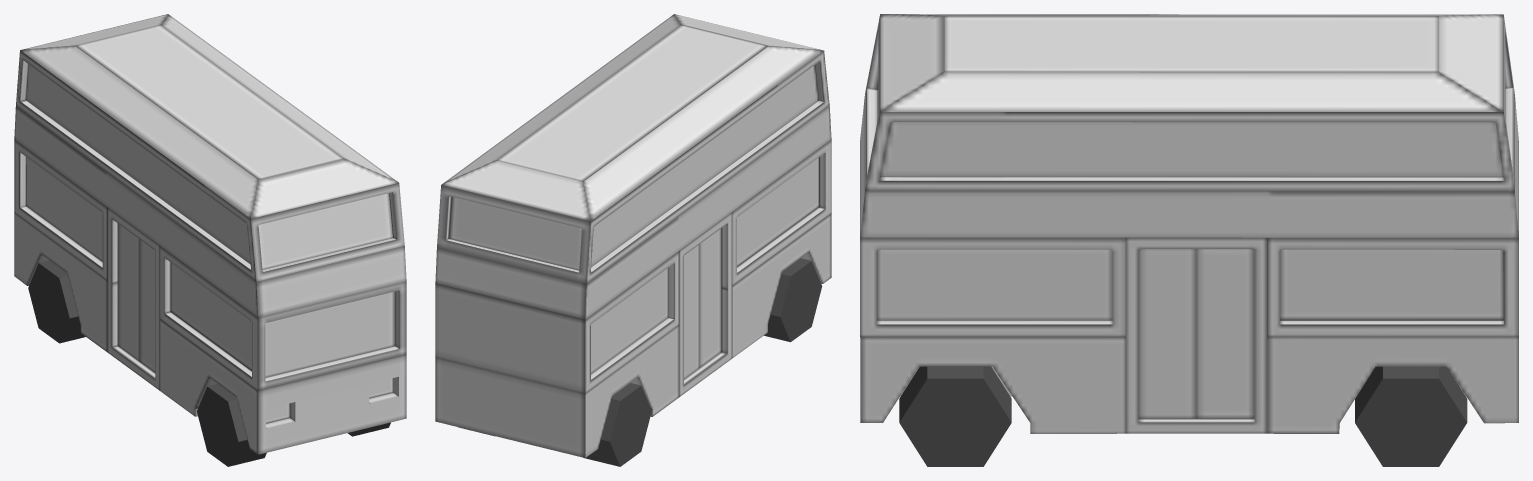
File: Vehicle-04.fbx
3 renders of one model, left to right at view 1: azimuth 30°, elevation 25°; view 2: azimuth 150°, elevation 25°; view 3: azimuth 270°, elevation 25°, orthographic. The views are drawn at different scales.
Parts seen in each view (by area): view 1: Vehicle_04, Vehicle_04_Wheel_FL, Vehicle_04_Wheel_BL; view 2: Vehicle_04, Vehicle_04_Wheel_BL, Vehicle_04_Wheel_FL; view 3: Vehicle_04, Vehicle_04_Wheel_FR, Vehicle_04_Wheel_BR.
Part boxes in pixels (x1=…): Vehicle_04: x1=14, y1=14, x2=406, y2=454; Vehicle_04_Wheel_FL: x1=197, y1=384, x2=266, y2=466; Vehicle_04_Wheel_BL: x1=28, y1=260, x2=85, y2=343; Vehicle_04: x1=435, y1=14, x2=831, y2=457; Vehicle_04_Wheel_BL: x1=583, y1=383, x2=651, y2=466; Vehicle_04_Wheel_FL: x1=764, y1=258, x2=822, y2=342; Vehicle_04: x1=860, y1=14, x2=1518, y2=433; Vehicle_04_Wheel_FR: x1=899, y1=366, x2=1011, y2=466; Vehicle_04_Wheel_BR: x1=1355, y1=366, x2=1467, y2=466.
Size of the model in its own units: 0.6876 by 1.12 by 1.8.
